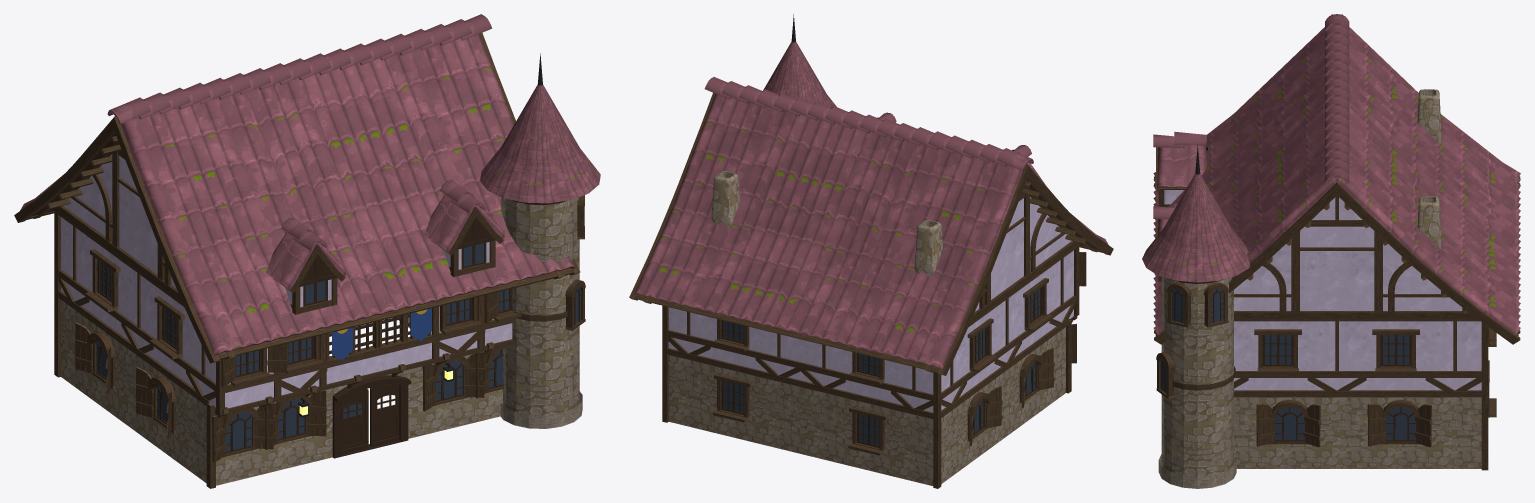
The model's file is guild_hall.glb.
3 renders of one model, left to right at view 1: azimuth 30°, elevation 25°; view 2: azimuth 150°, elevation 25°; view 3: azimuth 270°, elevation 25°, orthographic. The views are drawn at different scales.
Visible parts, largest first — view 1: Roof_RoundTiles_8x12.100, Tower.123, TowerRoof.130, Roof_Front_Brick8.101, Roof_Dormer_RoundTile.103, Roof_Dormer_RoundTile.104, Wall_Plaster_Straight+upper.085, Wall_Plaster_Straight+upper.082, Wall_UnevenBrick_Straight.033, Wall_Plaster_WoodGrid+upper.068, DoorFrame_Round_WoodDark.008, Wall_Plaster_WoodGrid+upper.067 (+38 smaller); view 2: Roof_RoundTiles_8x12.100, Roof_Front_Brick8.101, Wall_UnevenBrick_Straight.020, Wall_UnevenBrick_Straight.021, Wall_UnevenBrick_Straight.017, Wall_UnevenBrick_Straight.024, TowerRoof.130, Wall_UnevenBrick_Window_Wide_Flat.018, Wall_UnevenBrick_Window_Wide_Flat.022, Wall_Plaster_Straight+upper.078, Wall_Plaster_Straight+upper.077, Wall_Plaster_Straight+upper.085 (+26 smaller); view 3: Roof_RoundTiles_8x12.100, Roof_Front_Brick8.102, Tower.123, TowerRoof.130, Wall_Plaster_Straight+upper.092, Wall_Plaster_Straight+upper.095, Wall_UnevenBrick_Straight.038, Wall_UnevenBrick_Straight.042, Roof_Dormer_RoundTile.103, Wall_Plaster_Window_Wide_Flat+upper.093, Wall_Plaster_Window_Wide_Flat+upper.090, Wall_UnevenBrick_Window_Wide_Round.035 (+18 smaller).
Part boxes in pixels (left/top/right/bottom): Roof_RoundTiles_8x12.100: left=14, top=14, right=580, bottom=363; Tower.123: left=501, top=197, right=579, bottom=415; TowerRoof.130: left=480, top=84, right=600, bottom=203; Roof_Front_Brick8.101: left=46, top=136, right=182, bottom=303; Roof_Dormer_RoundTile.103: left=266, top=216, right=346, bottom=314; Roof_Dormer_RoundTile.104: left=424, top=179, right=504, bottom=277; Wall_Plaster_Straight+upper.085: left=121, top=259, right=155, bottom=359; Wall_Plaster_Straight+upper.082: left=58, top=213, right=91, bottom=312; Wall_UnevenBrick_Straight.033: left=178, top=378, right=210, bottom=483; Wall_Plaster_WoodGrid+upper.068: left=378, top=313, right=432, bottom=371; DoorFrame_Round_WoodDark.008: left=332, top=375, right=411, bottom=458; Wall_Plaster_WoodGrid+upper.067: left=326, top=321, right=380, bottom=384; Roof_RoundTiles_8x12.100: left=629, top=77, right=1113, bottom=375; Roof_Front_Brick8.101: left=969, top=181, right=1085, bottom=324; Wall_UnevenBrick_Straight.020: left=755, top=369, right=801, bottom=453; Wall_UnevenBrick_Straight.021: left=800, top=380, right=846, bottom=464; Wall_UnevenBrick_Straight.017: left=667, top=348, right=711, bottom=431; Wall_UnevenBrick_Straight.024: left=890, top=402, right=933, bottom=485; TowerRoof.130: left=763, top=42, right=836, bottom=107; Wall_UnevenBrick_Window_Wide_Flat.018: left=710, top=358, right=756, bottom=442; Wall_UnevenBrick_Window_Wide_Flat.022: left=845, top=391, right=891, bottom=475; Wall_Plaster_Straight+upper.078: left=800, top=339, right=846, bottom=391; Wall_Plaster_Straight+upper.077: left=755, top=328, right=801, bottom=380; Wall_Plaster_Straight+upper.085: left=992, top=286, right=1022, bottom=372; Roof_RoundTiles_8x12.100: left=1153, top=14, right=1520, bottom=344; Roof_Front_Brick8.102: left=1231, top=195, right=1476, bottom=318; Tower.123: left=1161, top=277, right=1233, bottom=476; TowerRoof.130: left=1142, top=174, right=1250, bottom=282; Wall_Plaster_Straight+upper.092: left=1307, top=319, right=1366, bottom=391; Wall_Plaster_Straight+upper.095: left=1425, top=319, right=1481, bottom=391; Wall_UnevenBrick_Straight.038: left=1317, top=390, right=1373, bottom=468; Wall_UnevenBrick_Straight.042: left=1429, top=390, right=1481, bottom=468; Roof_Dormer_RoundTile.103: left=1153, top=131, right=1207, bottom=207; Wall_Plaster_Window_Wide_Flat+upper.093: left=1366, top=319, right=1425, bottom=390; Wall_Plaster_Window_Wide_Flat+upper.090: left=1248, top=319, right=1307, bottom=390; Wall_UnevenBrick_Window_Wide_Round.035: left=1262, top=390, right=1317, bottom=468.
Bounding box in the file's own units: 15.32 × 13.01 × 13.59.
10 materials, 5 textured.
